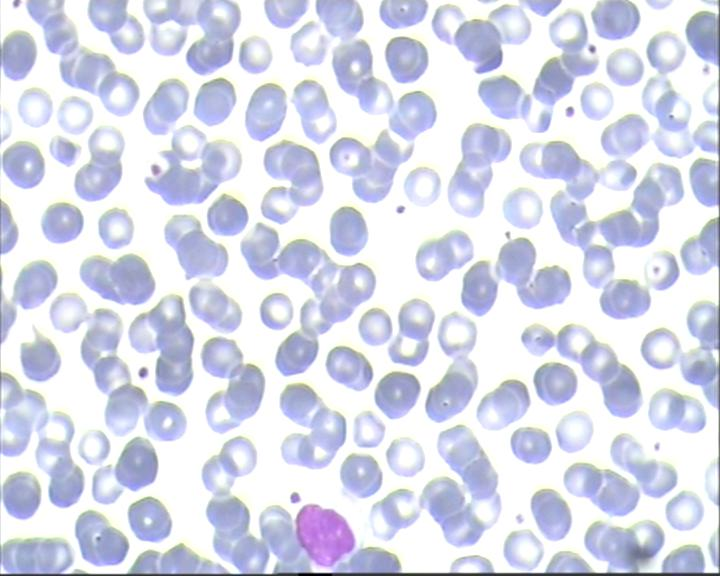lymp: (279, 487, 366, 568)
